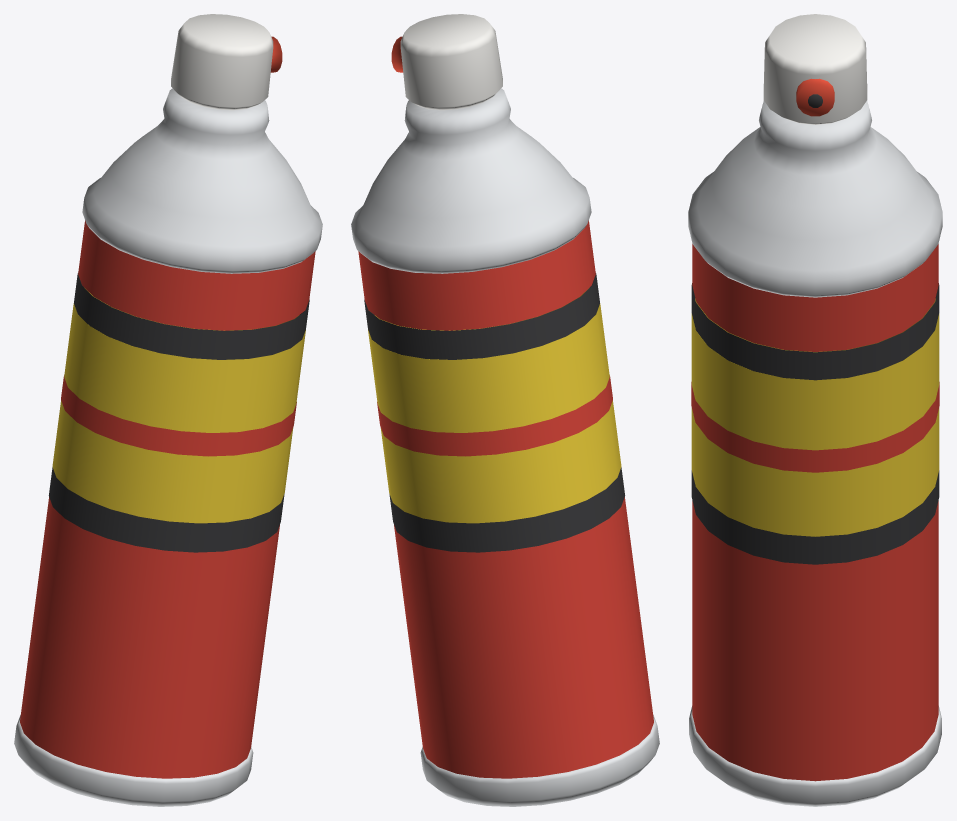
The model's file is aerosol_can.gltf.
The picture shows the model from 3 angles, left to right: view 1: azimuth 30°, elevation 25°; view 2: azimuth 150°, elevation 25°; view 3: azimuth 270°, elevation 25°; orthographic projection. The views are drawn at different scales.
Visible parts, largest first — view 1: aerosol_can; view 2: aerosol_can; view 3: aerosol_can.
Part boxes in pixels (x1=…): aerosol_can: x1=14, y1=14, x2=322, y2=806; aerosol_can: x1=351, y1=14, x2=659, y2=806; aerosol_can: x1=688, y1=14, x2=942, y2=806.
Size of the model in its own units: 0.1014 by 0.2564 by 0.0764.
